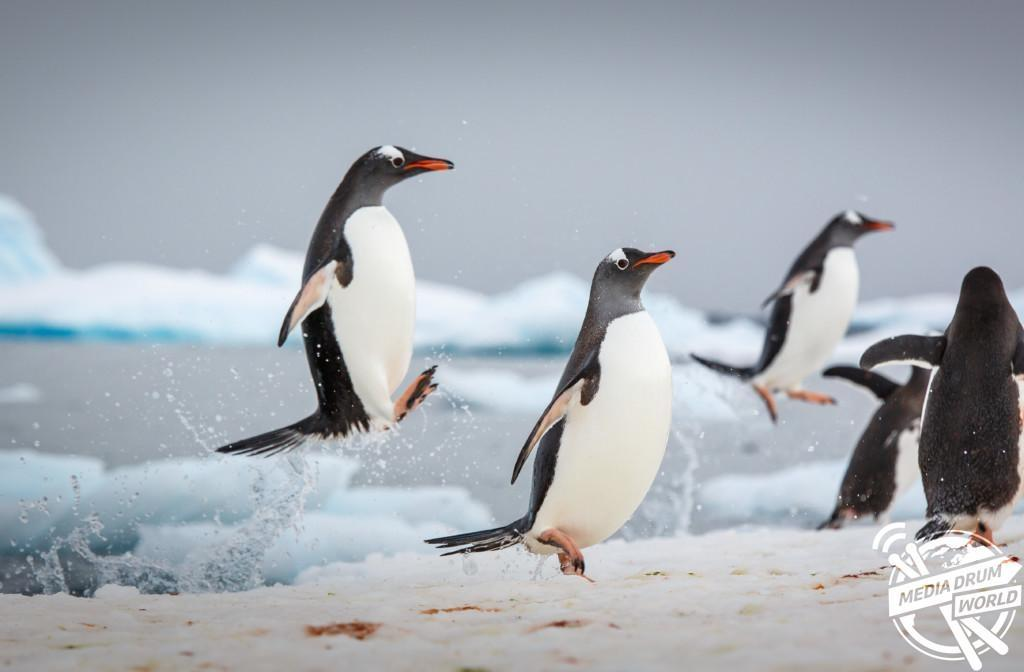Penguin: (422, 248, 675, 575), (218, 146, 454, 455), (859, 266, 1023, 549), (692, 210, 894, 422), (820, 366, 931, 528)
